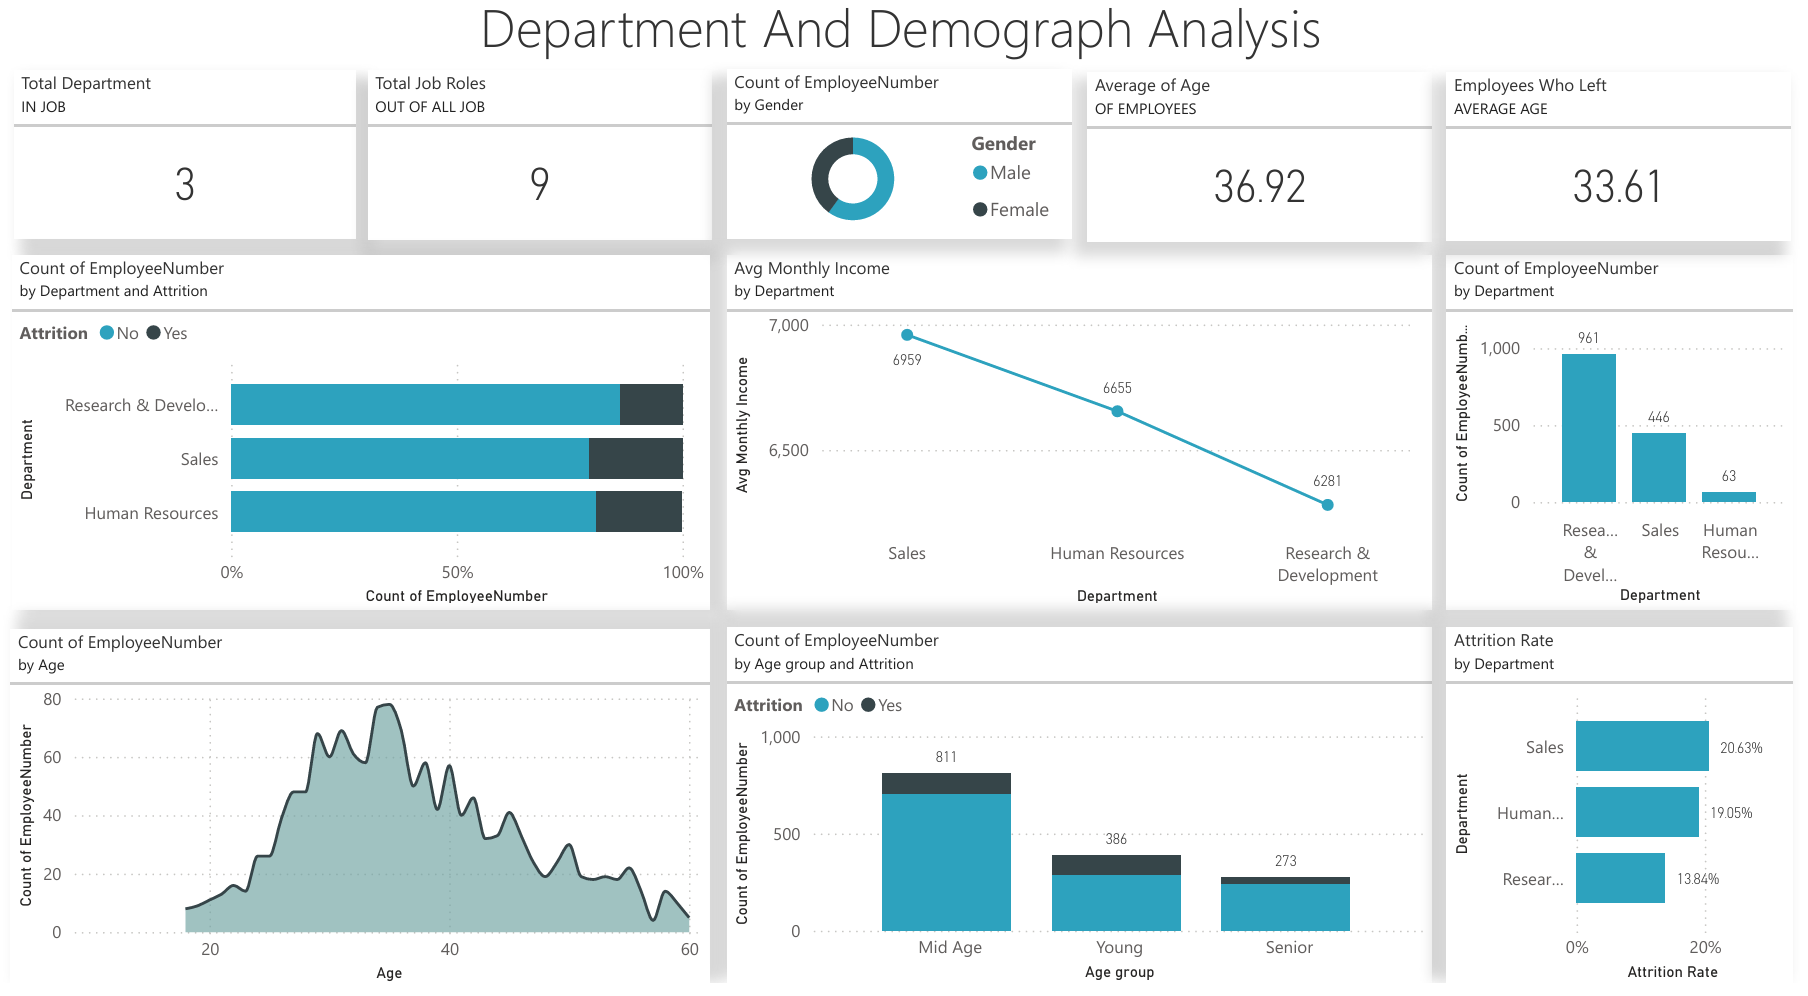

Layout of this report page (visuals, bound fields, positions):
{"tool":"powerbi","page":{"name":"Department & Demographs","canvas":[1280,720],"ordinal":1},"visuals":[{"type":"textbox","box":[324.4,0,630.2,61.6],"z":0},{"type":"card","title":"Total Department","fields":{"Values":["WA_Fn-UseC_-HR-Employee-Attrition.Total Departments"]},"box":[11.6,61.4,242,119],"z":1000},{"type":"card","title":"Total Job Roles","fields":{"Values":["WA_Fn-UseC_-HR-Employee-Attrition.Total Job Roles"]},"box":[262.6,61.4,243,120],"z":2000},{"type":"hundredPercentStackedBarChart","fields":{"Category":["WA_Fn-UseC_-HR-Employee-Attrition.Department"],"Series":["WA_Fn-UseC_-HR-Employee-Attrition.Attrition"],"Y":["CountNonNull(WA_Fn-UseC_-HR-Employee-Attrition.EmployeeNumber)"]},"box":[11.1,191.8,494.3,251.4],"z":3000},{"type":"columnChart","fields":{"Category":["WA_Fn-UseC_-HR-Employee-Attrition.Department"],"Y":["CountNonNull(HR.EmployeeNumber)"]},"box":[1025.4,192.4,245.3,251],"z":4000},{"type":"lineChart","fields":{"Category":["HR.Department"],"Y":["WA_Fn-UseC_-HR-Employee-Attrition.Avg Monthly Income"]},"box":[516.8,191.8,498.6,251.4],"z":5000},{"type":"areaChart","fields":{"Category":["WA_Fn-UseC_-HR-Employee-Attrition.Age"],"Y":["CountNonNull(WA_Fn-UseC_-HR-Employee-Attrition.EmployeeNumber)"]},"box":[9.6,456.9,495.1,253.8],"z":6000},{"type":"card","title":"Average of Age","fields":{"Values":["Avg(WA_Fn-UseC_-HR-Employee-Attrition.Age)"]},"box":[771.5,62.6,243.8,119.7],"z":7000},{"type":"donutChart","fields":{"Category":["WA_Fn-UseC_-HR-Employee-Attrition.Gender"],"Y":["CountNonNull(WA_Fn-UseC_-HR-Employee-Attrition.EmployeeNumber)"]},"box":[516.1,61.1,243.8,119.7],"z":8000},{"type":"card","title":"Employees Who Left","fields":{"Values":["HR.Avg Age Attrition"]},"box":[1025.9,62.6,243.8,119.4],"z":9000},{"type":"columnChart","fields":{"Category":["HR.Age group"],"Series":["HR.Attrition"],"Y":["CountNonNull(HR.EmployeeNumber)"]},"box":[516.6,456.4,499,254],"z":10000},{"type":"clusteredBarChart","fields":{"Category":["HR.Department"],"Y":["HR.Attrition Rate"]},"box":[1025.6,456.4,245,254],"z":11000}]}

Visuals, with their boxes in screenshot pixels (x1, y1, x2, y2), scaled from the page's 1280x720 canvas onto the 1808x996 screenshot:
textbox: box=[458, 0, 1348, 85]
"Total Department" card: box=[16, 85, 358, 250]
"Total Job Roles" card: box=[371, 85, 714, 251]
hundredPercentStackedBarChart - WA_Fn-UseC_-HR-Employee-Attrition.Department x WA_Fn-UseC_-HR-Employee-Attrition.Attrition: box=[16, 265, 714, 613]
columnChart - WA_Fn-UseC_-HR-Employee-Attrition.Department x CountNonNull(HR.EmployeeNumber): box=[1448, 266, 1795, 613]
lineChart - HR.Department x WA_Fn-UseC_-HR-Employee-Attrition.Avg Monthly Income: box=[730, 265, 1434, 613]
areaChart - WA_Fn-UseC_-HR-Employee-Attrition.Age x CountNonNull(WA_Fn-UseC_-HR-Employee-Attrition.EmployeeNumber): box=[14, 632, 713, 983]
"Average of Age" card: box=[1090, 87, 1434, 252]
donutChart - WA_Fn-UseC_-HR-Employee-Attrition.Gender x CountNonNull(WA_Fn-UseC_-HR-Employee-Attrition.EmployeeNumber): box=[729, 85, 1073, 250]
"Employees Who Left" card: box=[1449, 87, 1793, 252]
columnChart - HR.Age group x HR.Attrition: box=[730, 631, 1435, 983]
clusteredBarChart - HR.Department x HR.Attrition Rate: box=[1449, 631, 1795, 983]
